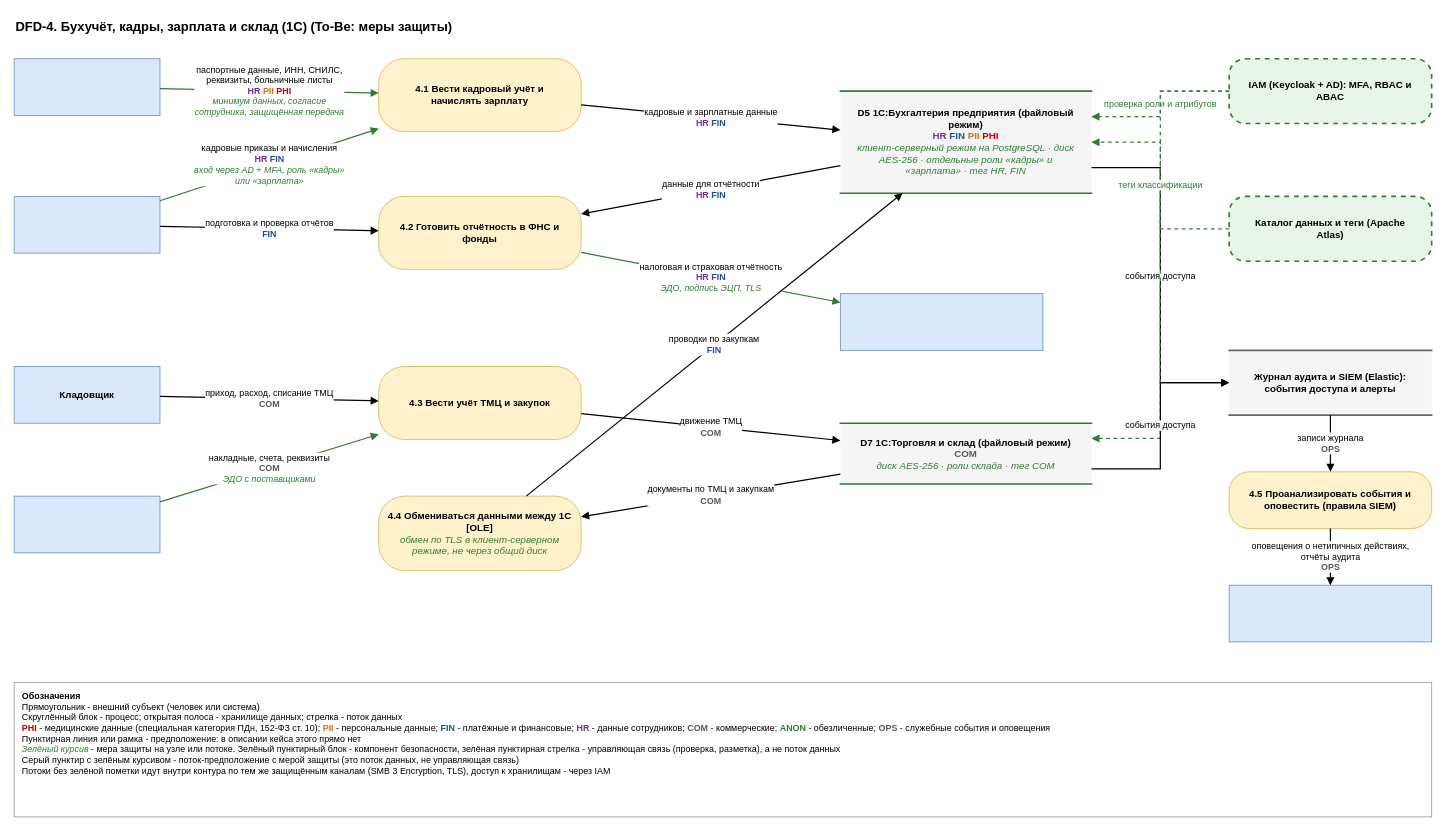
Some shapes in this 1447 by 831 pixel diagram are drawn without their labels. Each missing label, with the box of its shape:
Бухгалтер: (13, 196, 160, 253)
Команда IT и ответственный за ПДн: (1228, 584, 1432, 642)
Поставщик: (13, 495, 160, 553)
Сотрудник компании: (13, 58, 160, 115)
ФНС, СФР и другие госорганы: (840, 293, 1043, 350)
